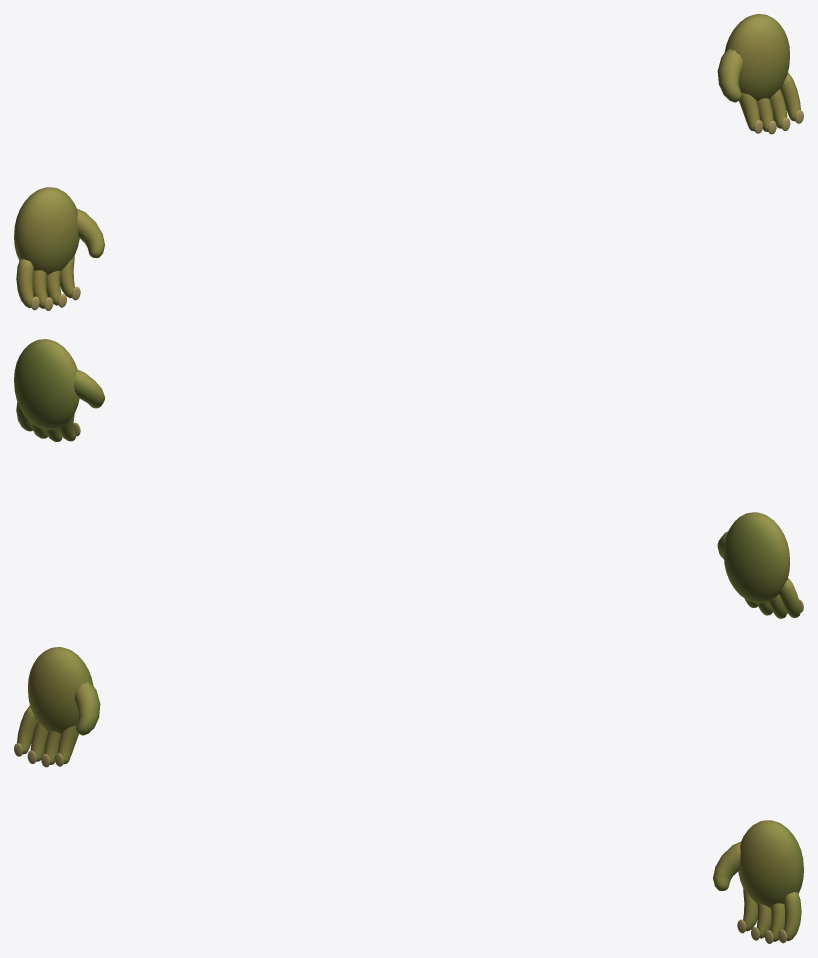
Rendered from 05_Hands.fbx.
3 renders of one model, top to bottom at view 1: azimuth 30°, elevation 25°; view 2: azimuth 150°, elevation 25°; view 3: azimuth 330°, elevation 25°, orthographic.
Parts seen in each view (by area): view 1: Hand.R | five fingers and nails, Hand.L | five fingers and nails; view 2: Hand.L | five fingers and nails, Hand.R | five fingers and nails; view 3: Hand.L | five fingers and nails, Hand.R | five fingers and nails.
Part boxes in pixels (box(x1,y1,x2,y2)): Hand.R | five fingers and nails: box(14, 187, 104, 310); Hand.L | five fingers and nails: box(717, 14, 803, 134); Hand.L | five fingers and nails: box(14, 339, 104, 441); Hand.R | five fingers and nails: box(717, 512, 803, 618); Hand.L | five fingers and nails: box(713, 820, 803, 943); Hand.R | five fingers and nails: box(14, 647, 100, 767).
Bounding box in the file's own units: 98.85 × 13.17 × 6.41.
1 material, 1 textured.
